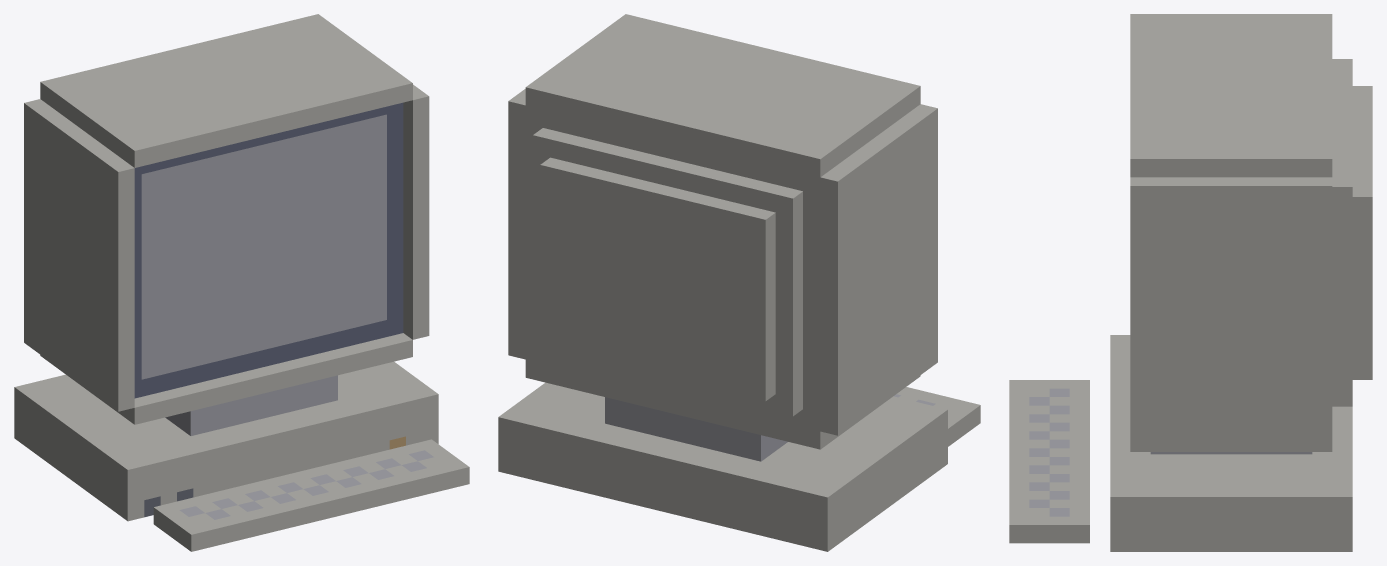
The model's file is PcOnly.fbx.
3 views of the same model, side by side, from view 1: azimuth 30°, elevation 25°; view 2: azimuth 150°, elevation 25°; view 3: azimuth 270°, elevation 25° (orthographic). The views are drawn at different scales.
Visible parts, largest first — view 1: pc; view 2: pc; view 3: pc.
Part boxes in pixels (x1=…): pc: x1=14, y1=14, x2=469, y2=551; pc: x1=498, y1=14, x2=980, y2=551; pc: x1=1009, y1=14, x2=1372, y2=551.
Bounding box in the file's own units: 119 × 131 × 112.
